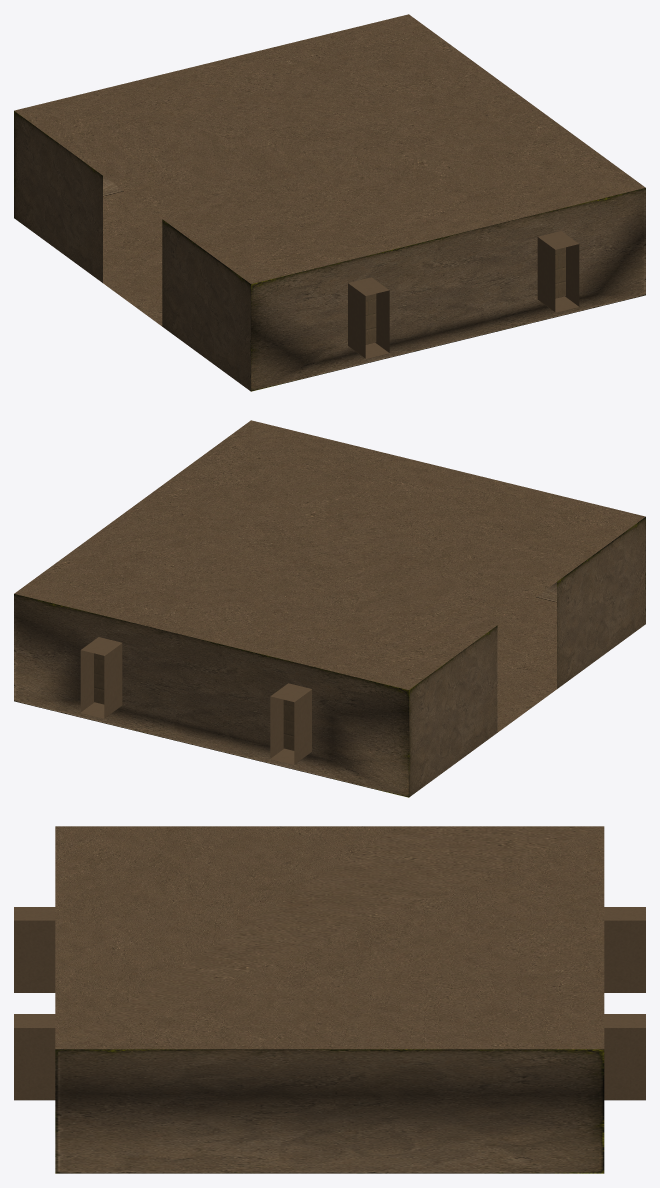
File: temple_innertop_elevator_withnooks.fbx
3 views of the same model, one above another, from view 1: azimuth 30°, elevation 25°; view 2: azimuth 150°, elevation 25°; view 3: azimuth 270°, elevation 25° (orthographic). The views are drawn at different scales.
Parts seen in each view (by area): view 1: innertop.001; view 2: innertop.001; view 3: innertop.001.
Part boxes in pixels (x1,y1,x2,y2): innertop.001: (14,14,645,391); innertop.001: (14,420,645,797); innertop.001: (14,826,645,1173).
Size of the model in its own units: 140 by 36.53 by 168.
